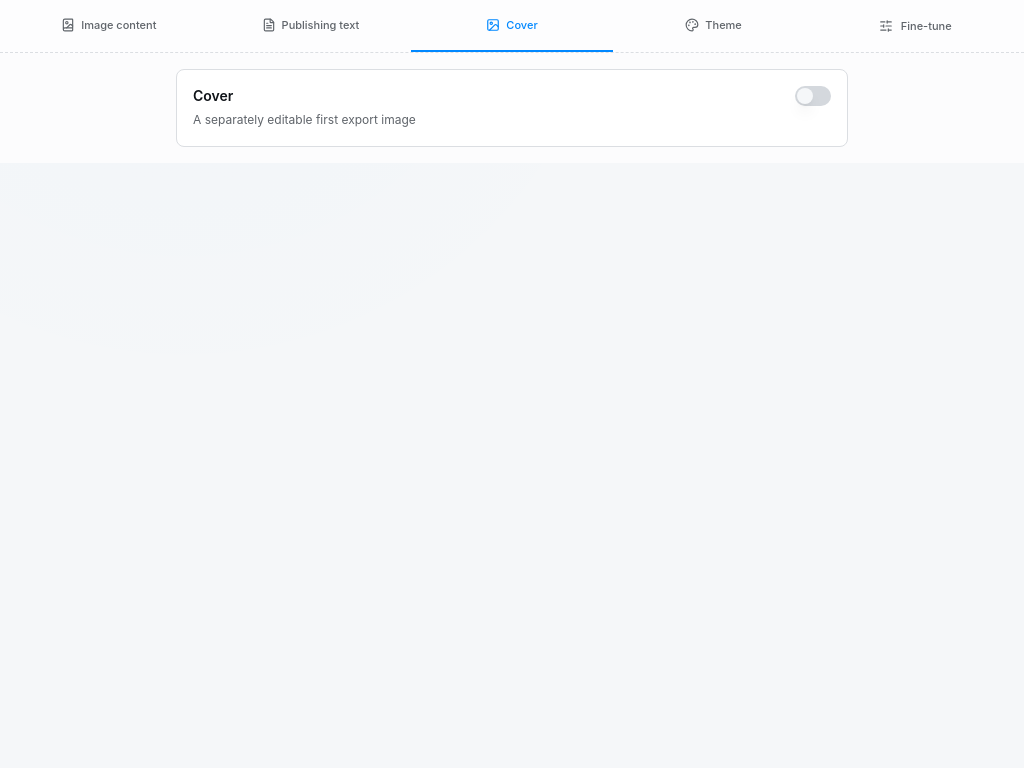
it: 小红书设置导航 › 关闭时折叠所有封面选项，打开后才展示
The image size is (1024, 768).
Click the switch named "Cover" at (813, 96), box 795,86 -> 831,106
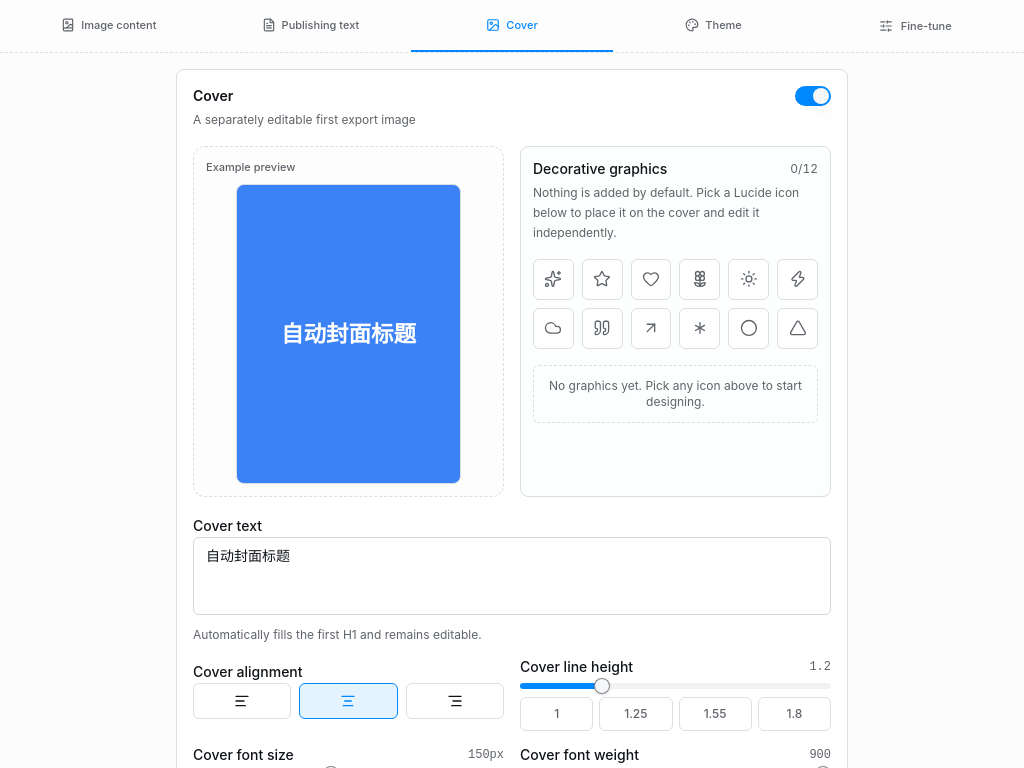
Expected: the text box is shown, 193,536 -> 831,614
